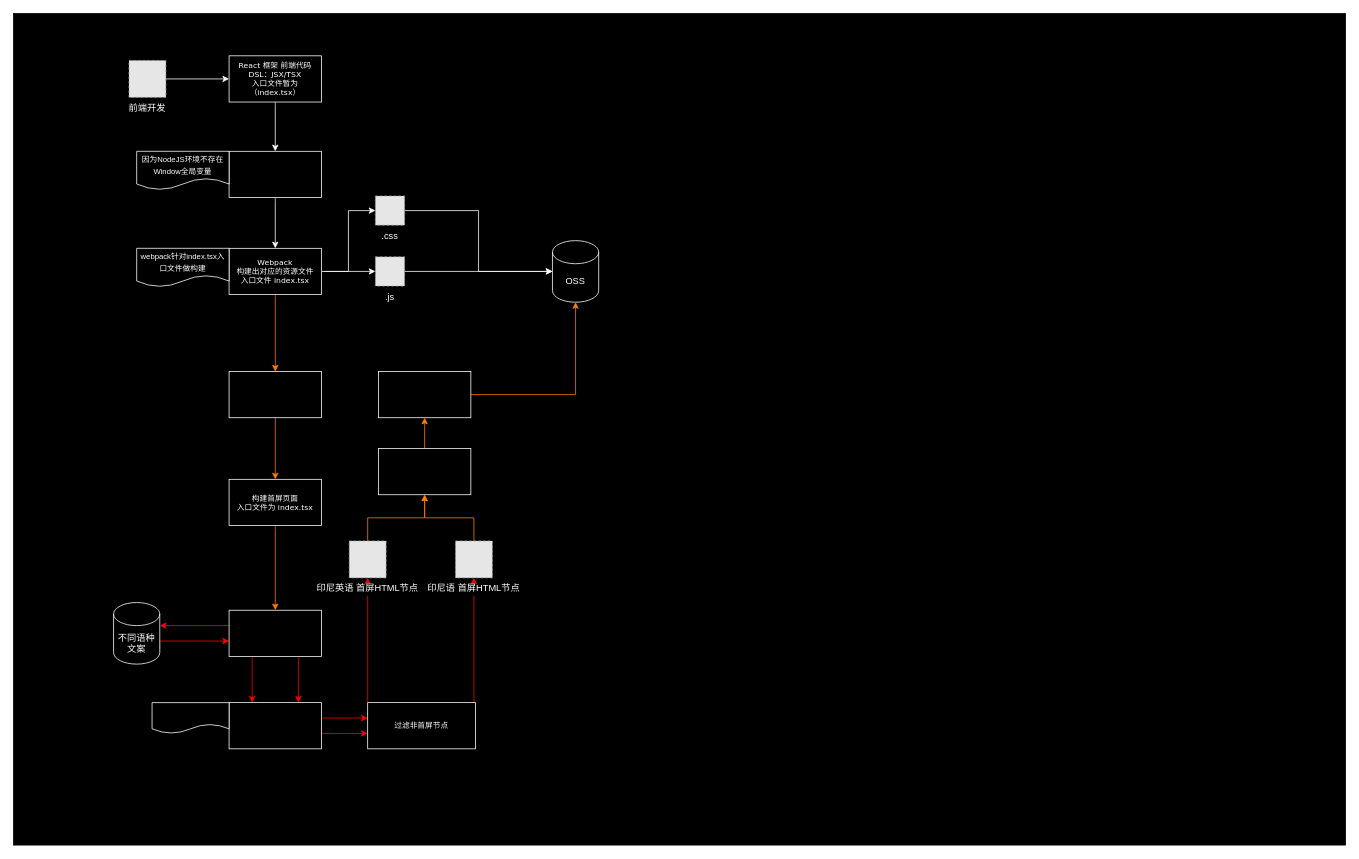
Some shapes in this 1359 by 859 pixel diagram are drawn without their labels. Grey dashed boxes stand in for pictures. The centre of each missing label's shape, as x and y in pixels:
"index.xtpl （资源文件）" goes at (425,395).
"启动预渲染构建程序" goes at (275,395).
"在Node环境中构建 HTML String 内容" goes at (275,634).
"在构建上下文中 注入Window全局环境变量" goes at (275,175).
"红线代表 并行构建" goes at (190,717).
"聚合多语种内容" goes at (425,472).
"预渲染HTML节点内容" goes at (275,726).
